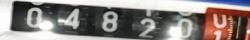digits: (56, 8, 80, 29), (137, 17, 156, 37), (101, 10, 118, 32), (26, 7, 43, 27), (176, 18, 192, 38), (212, 13, 226, 28)
